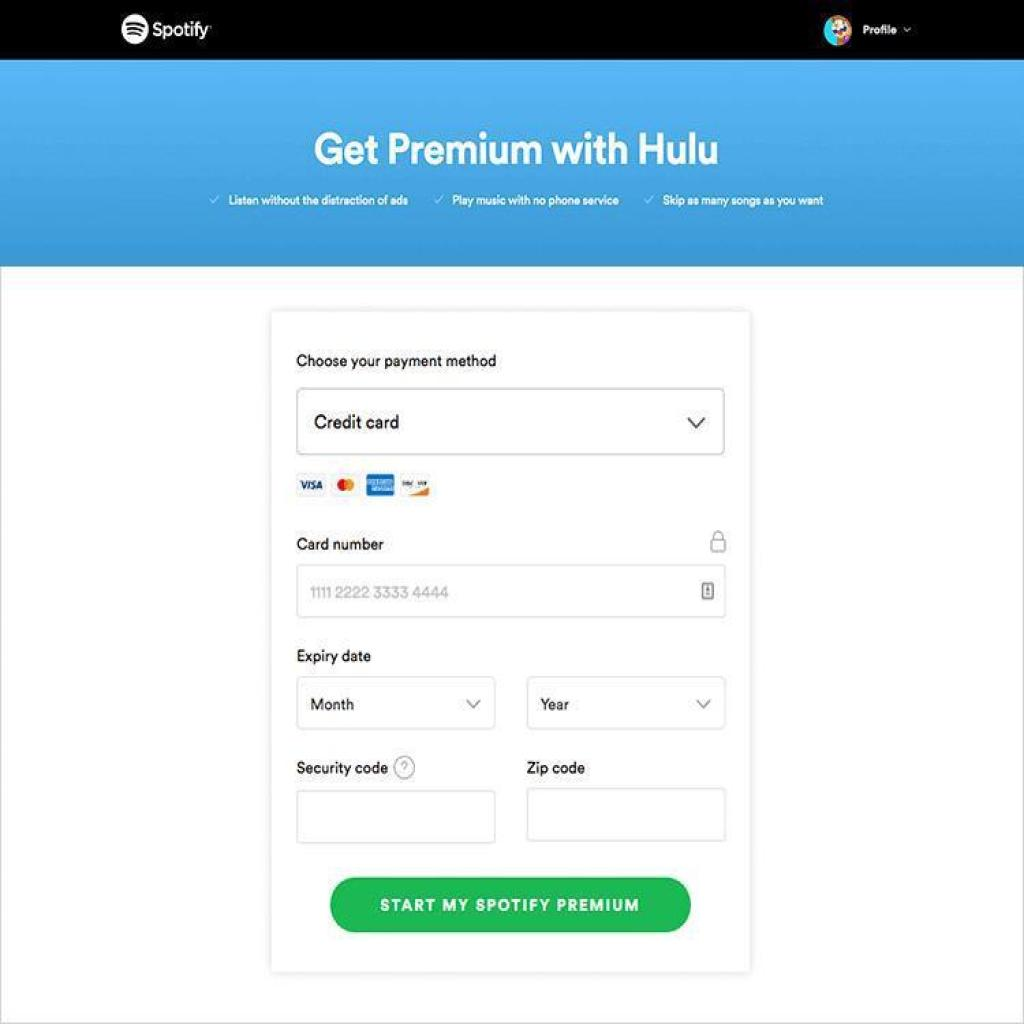button: (330, 875, 694, 935)
dropdown: (299, 387, 725, 456), (527, 676, 726, 730), (295, 676, 494, 727)
icon: (394, 750, 420, 778), (706, 524, 728, 553)
input: (295, 565, 728, 619), (298, 789, 496, 845), (526, 789, 726, 843)
label: (292, 349, 505, 375), (298, 754, 393, 777), (294, 535, 384, 554), (296, 645, 374, 664), (527, 758, 591, 780)
